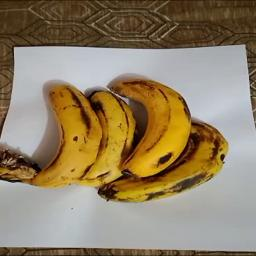Banana Semifresh: (25, 76, 233, 202)
